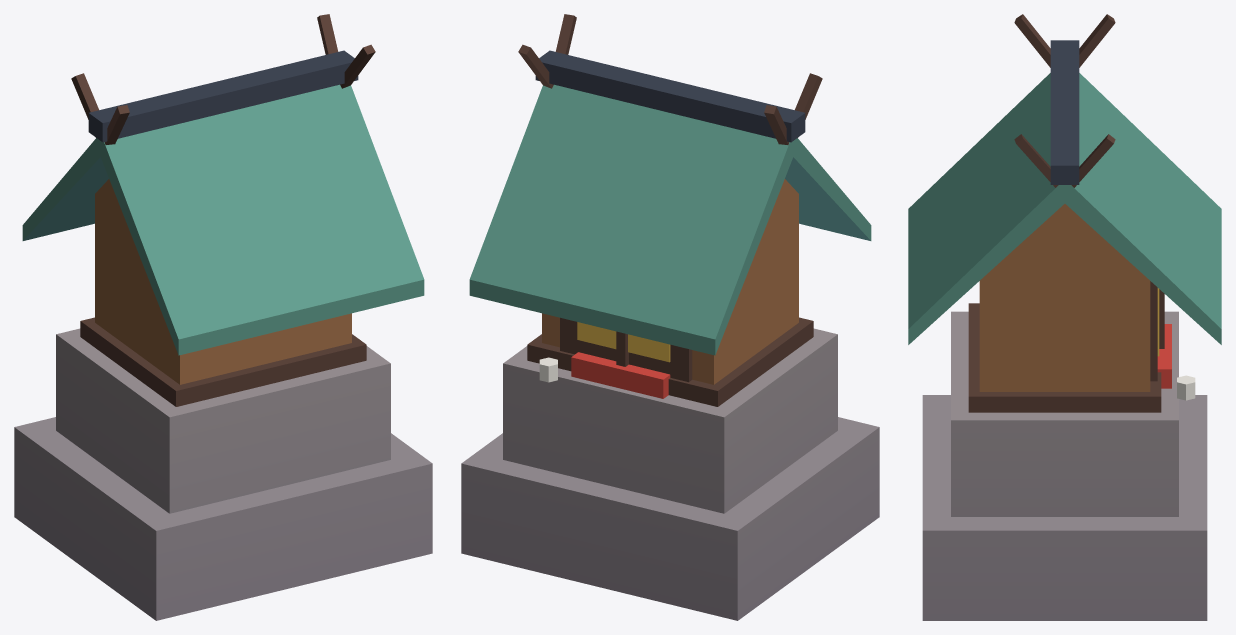
File: hokora.glb
The picture shows the model from 3 angles, left to right: view 1: azimuth 30°, elevation 25°; view 2: azimuth 150°, elevation 25°; view 3: azimuth 270°, elevation 25°; orthographic projection.
Parts seen in each view (by area): view 1: hokora; view 2: hokora; view 3: hokora.
Boxes of the visible parts, x1,y1,x2,y2 form: hokora: [14, 14, 432, 620]; hokora: [461, 14, 879, 620]; hokora: [908, 14, 1221, 620].
Size of the model in its own units: 0.9 by 1.48 by 0.88.
